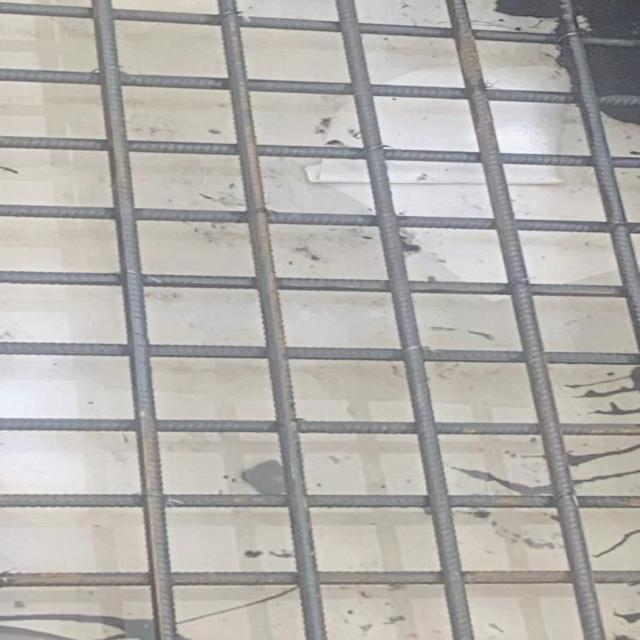ribbed bar: (443, 0, 608, 639), (334, 0, 474, 639), (219, 0, 329, 639), (91, 0, 179, 639), (0, 1, 639, 49), (554, 0, 639, 347), (0, 68, 639, 106), (0, 135, 639, 168), (0, 202, 639, 234), (0, 271, 625, 298), (0, 341, 639, 365), (0, 418, 639, 437), (0, 570, 639, 586), (0, 493, 639, 508)
